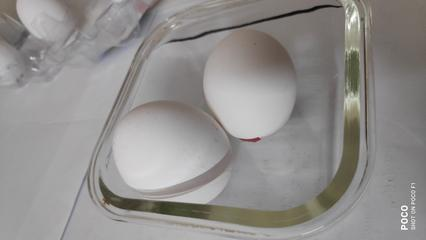eggs: (194, 28, 332, 149), (111, 87, 232, 199)
